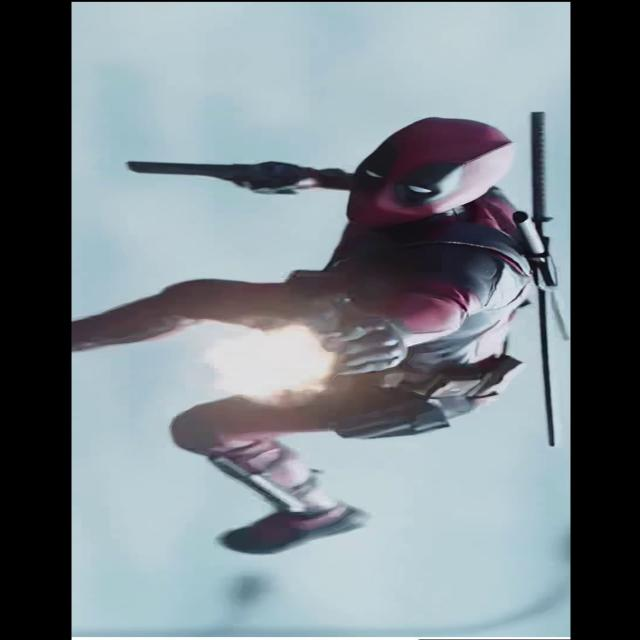weapons: (120, 140, 324, 210)
